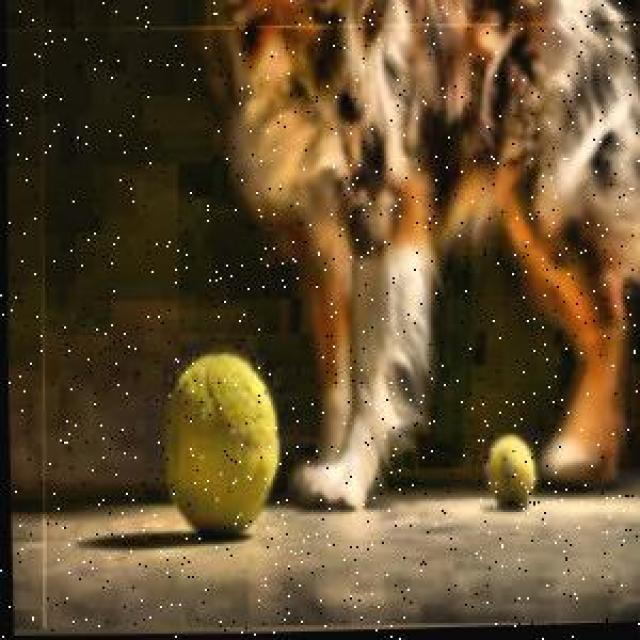tennis-ball: (156, 348, 280, 536), (479, 434, 539, 513)
